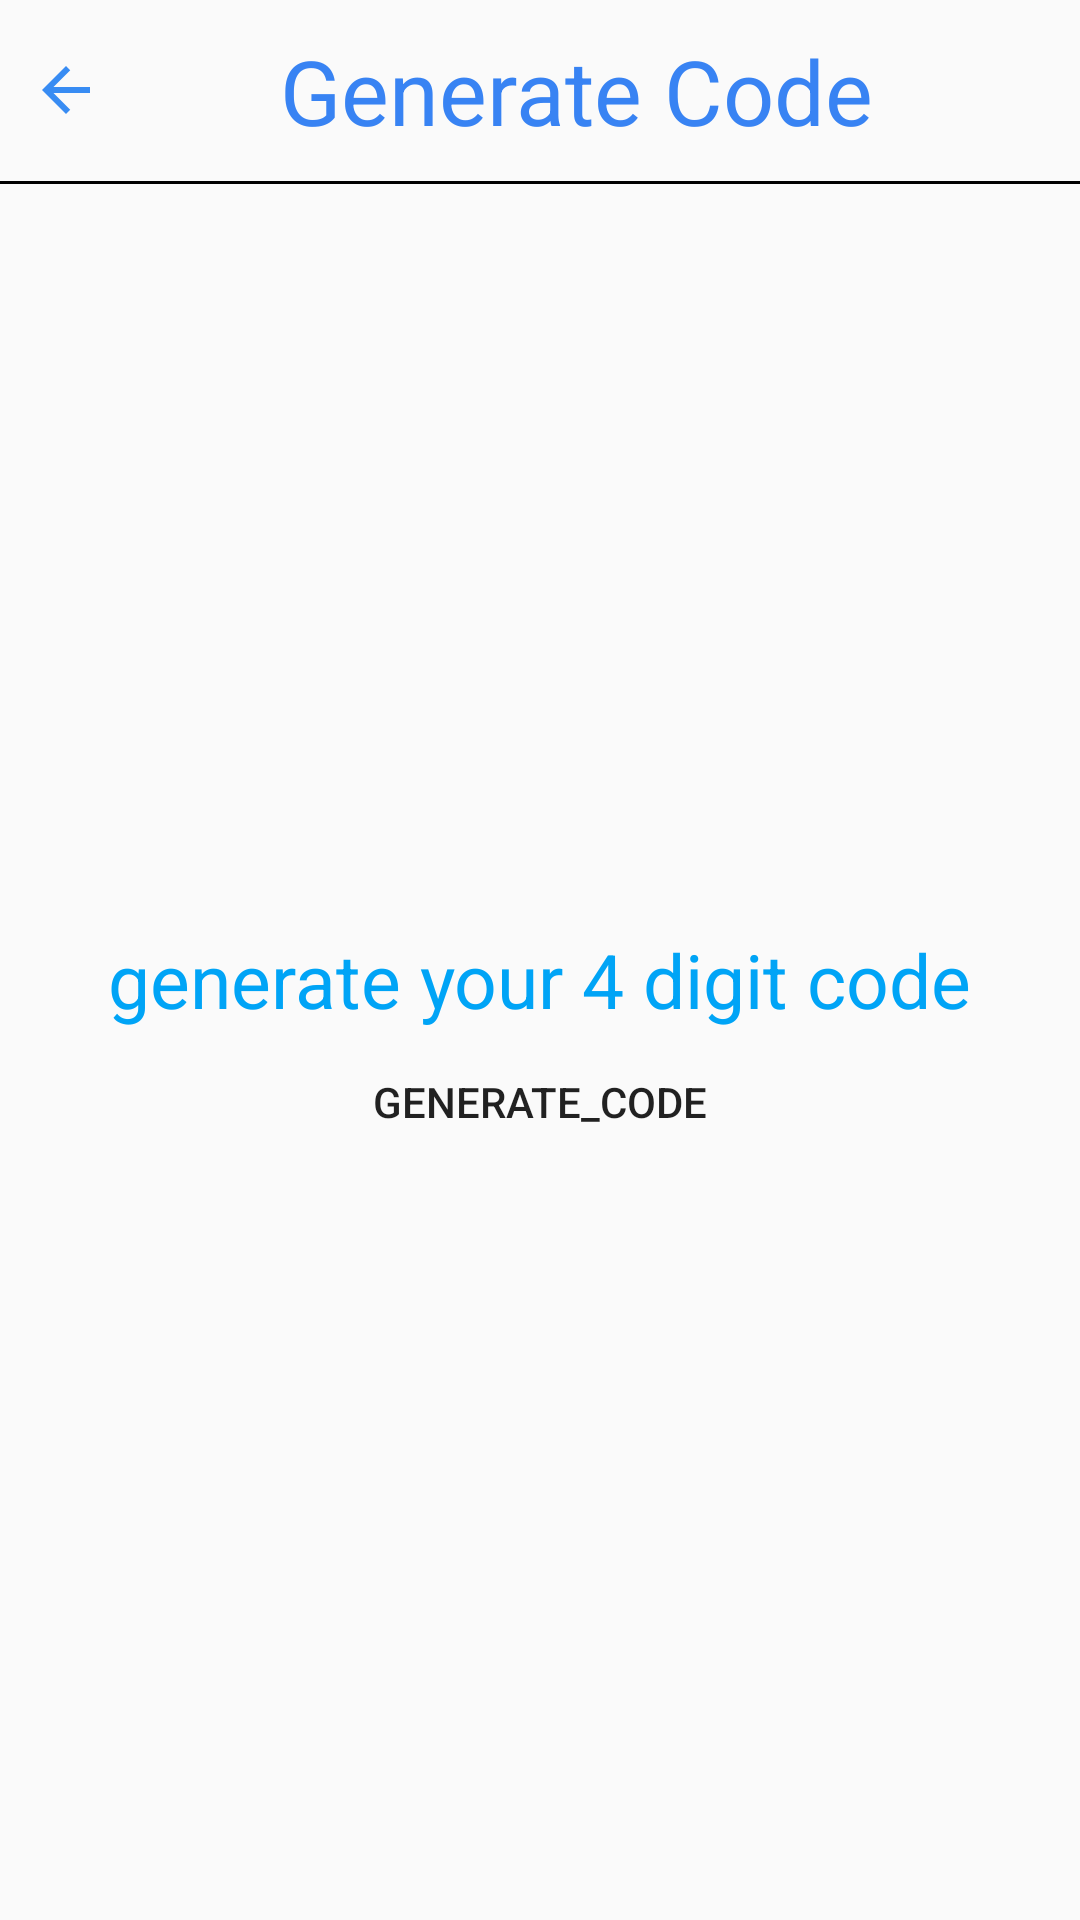

Named icons in this screenshot (1080x1920) and their centers, point (x, y):
arrow back: point (66, 90)
